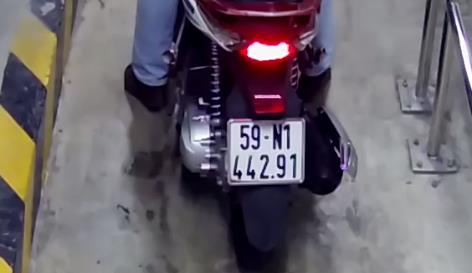lisence: (226, 119, 305, 183)
